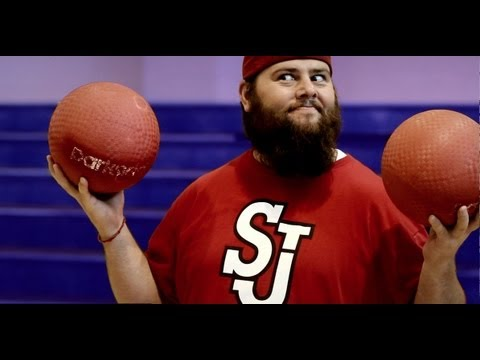red ball: (46, 78, 164, 193), (382, 107, 480, 228)
